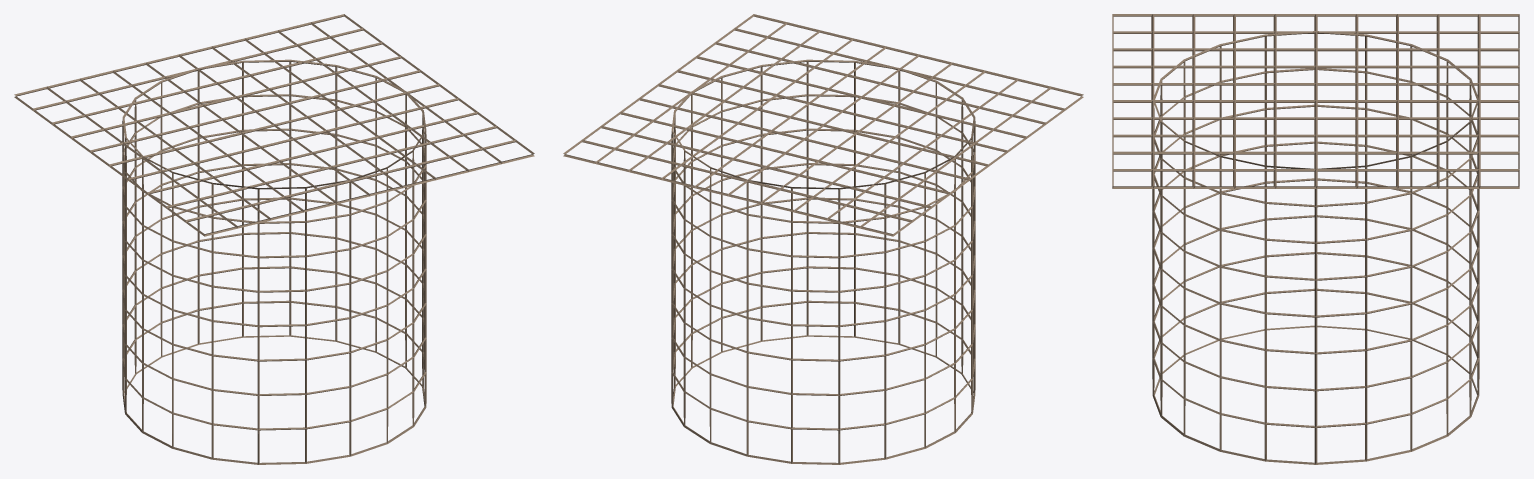
File: Burner.fbx
The picture shows the model from 3 angles, left to right: view 1: azimuth 30°, elevation 25°; view 2: azimuth 150°, elevation 25°; view 3: azimuth 270°, elevation 25°; orthographic projection. The views are drawn at different scales.
Visible parts, largest first — view 1: Fire Mesh; view 2: Fire Mesh; view 3: Fire Mesh.
Boxes of the visible parts, x1,y1,x2,y2 form: Fire Mesh: [14, 14, 534, 464]; Fire Mesh: [563, 14, 1083, 464]; Fire Mesh: [1112, 14, 1519, 464].
Bounding box in the file's own units: 21.38 × 17.12 × 21.38.
